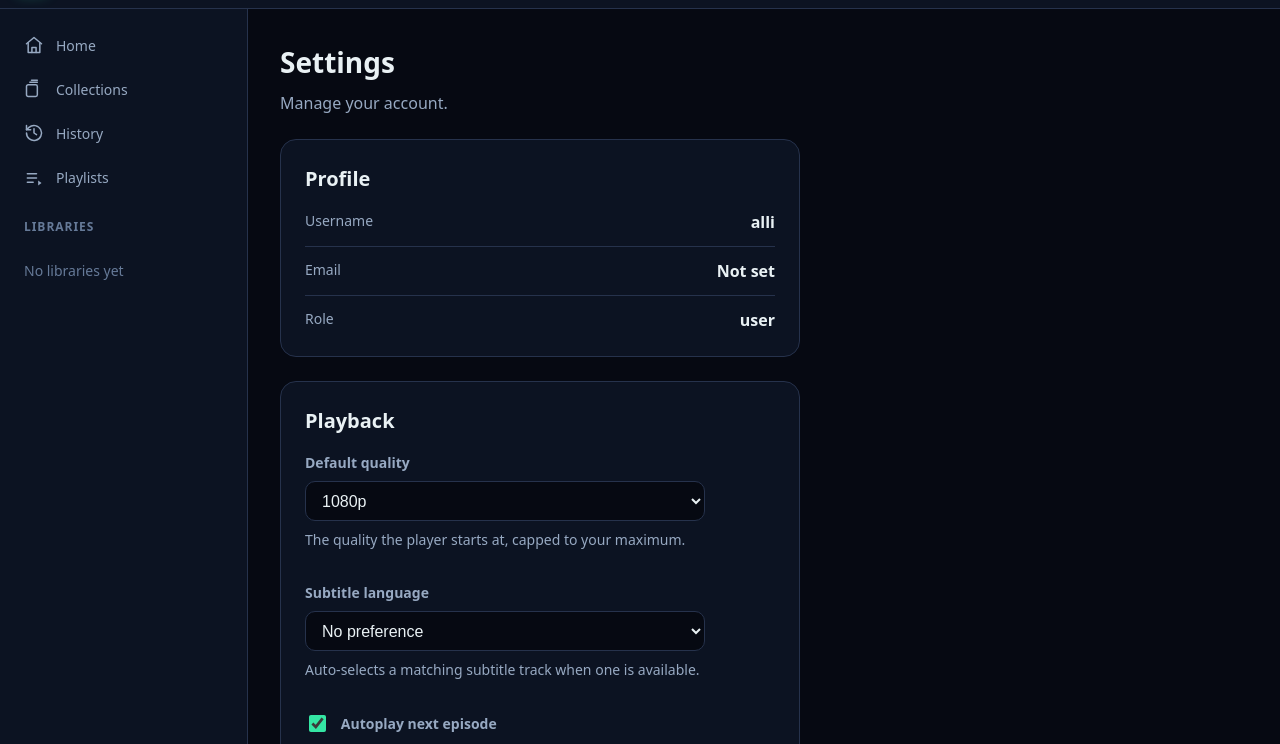
it: SettingsPage — Playback preferences › sends null to clear a preference and "off" as the subtitle sentinel
Select "Auto (server default)" in the dropdown labelled "Default quality" at (505, 501), box [305, 481, 705, 521]
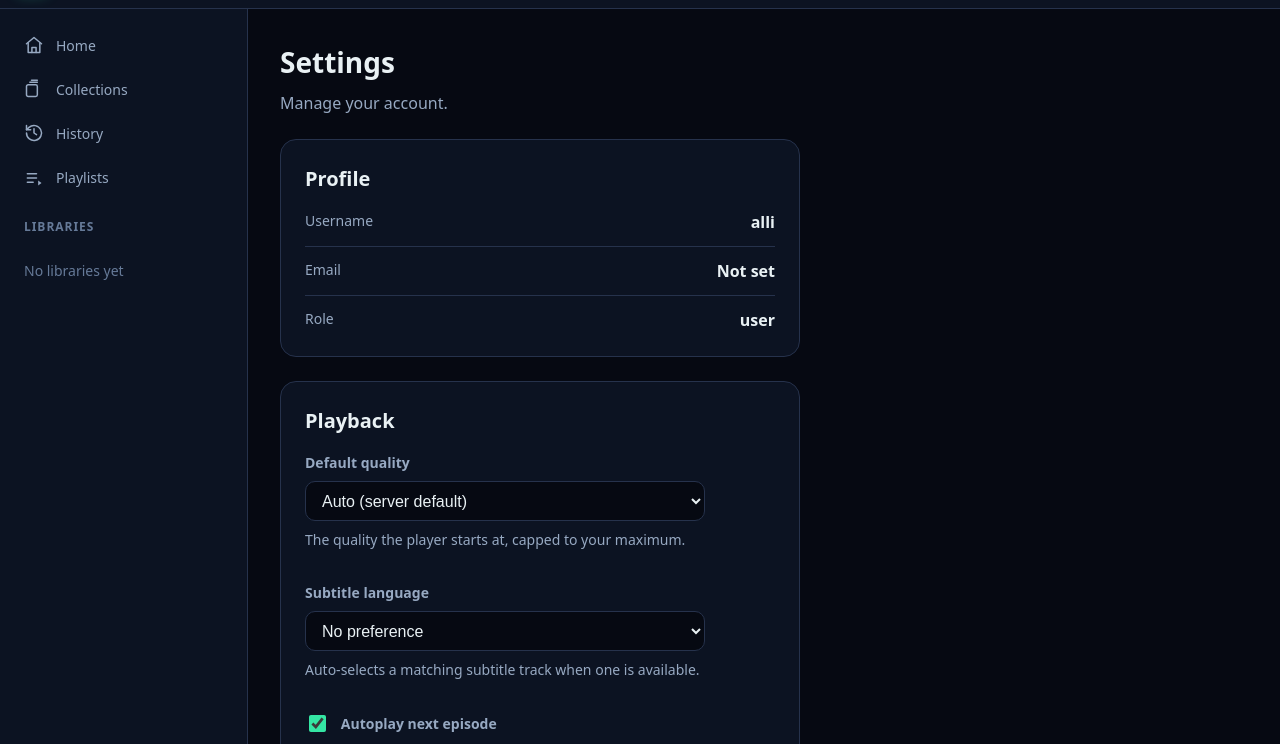
Select "Off" in the dropdown labelled "Subtitle language" at (505, 631), box [305, 611, 705, 651]
(page scrolled)
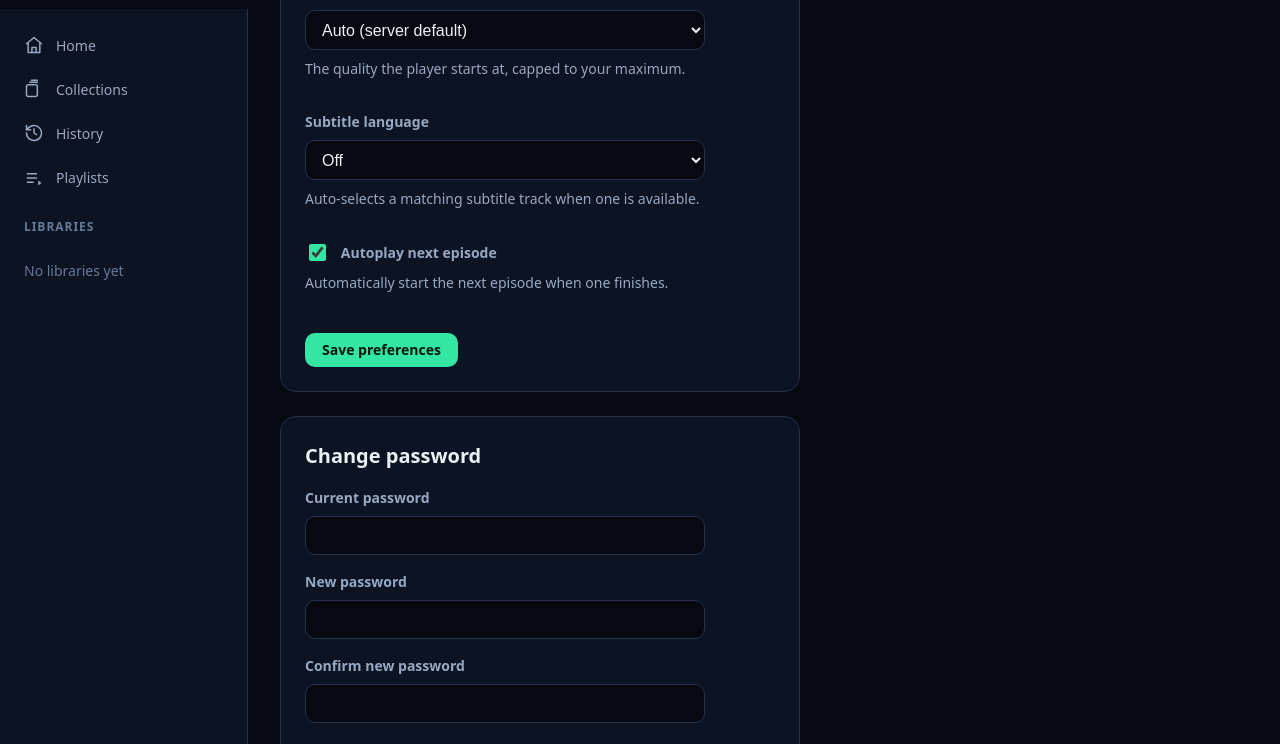
Click the button "Save preferences" at (381, 350), box [305, 333, 458, 367]
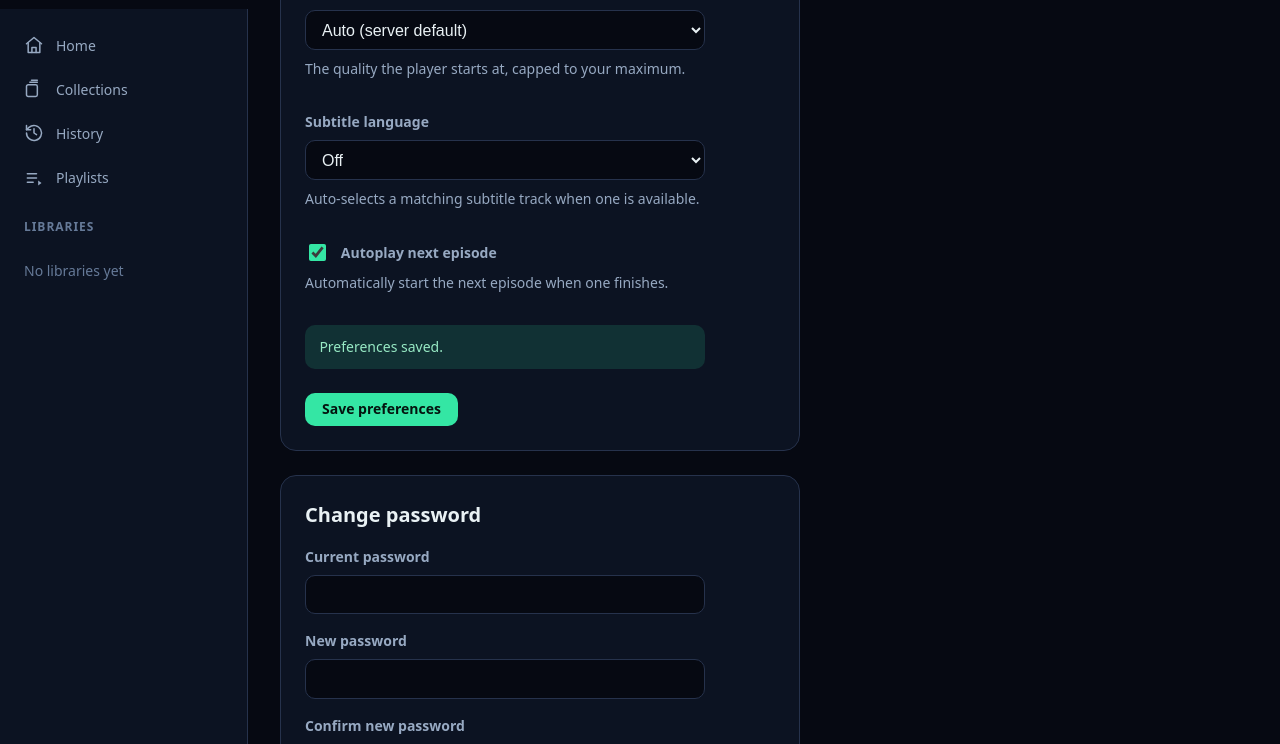
Expected: the text "Preferences saved." is shown, [305, 325, 705, 369]
